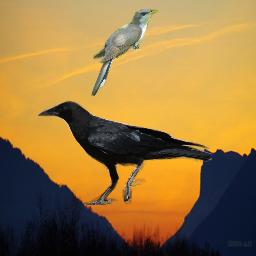Crow: (37, 99, 212, 205)
Cuckoo: (91, 9, 158, 96)
